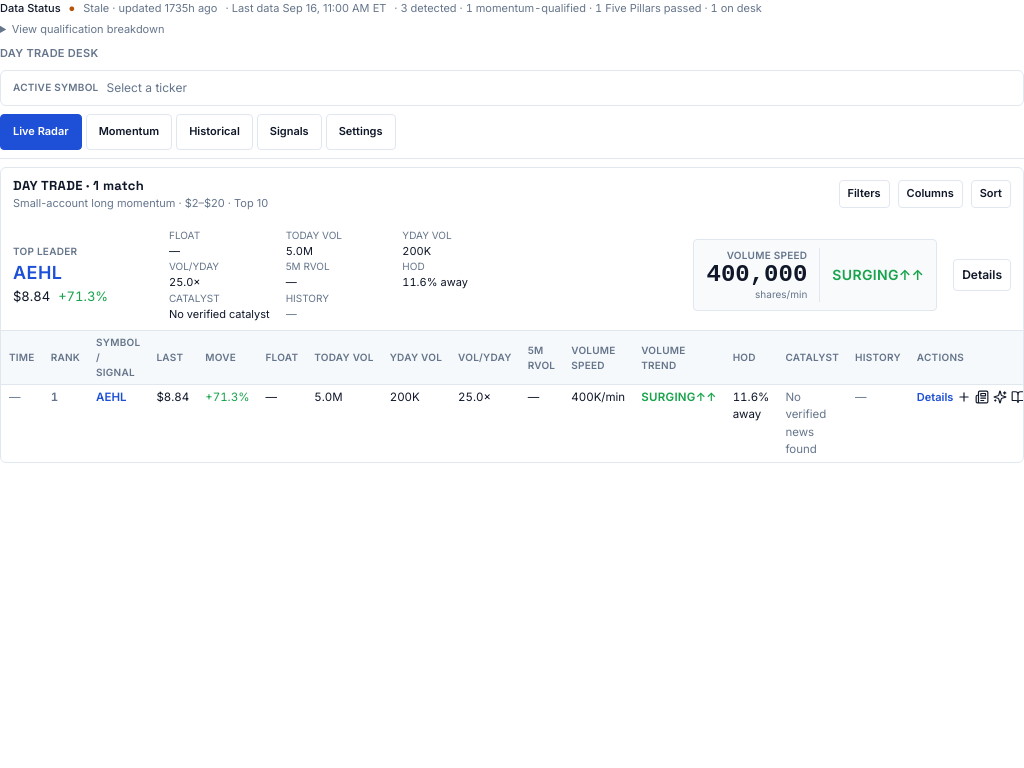
Test case: Radar workspace layout › sets the shared active symbol from any panel and opens details from the rail
The width and height of the screenshot is (1024, 768).
Later steps or results of the test are not shown.
Step 1. Click the row that starts with "AEHL" → [512, 423], box left=1, top=384, right=1023, bottom=462
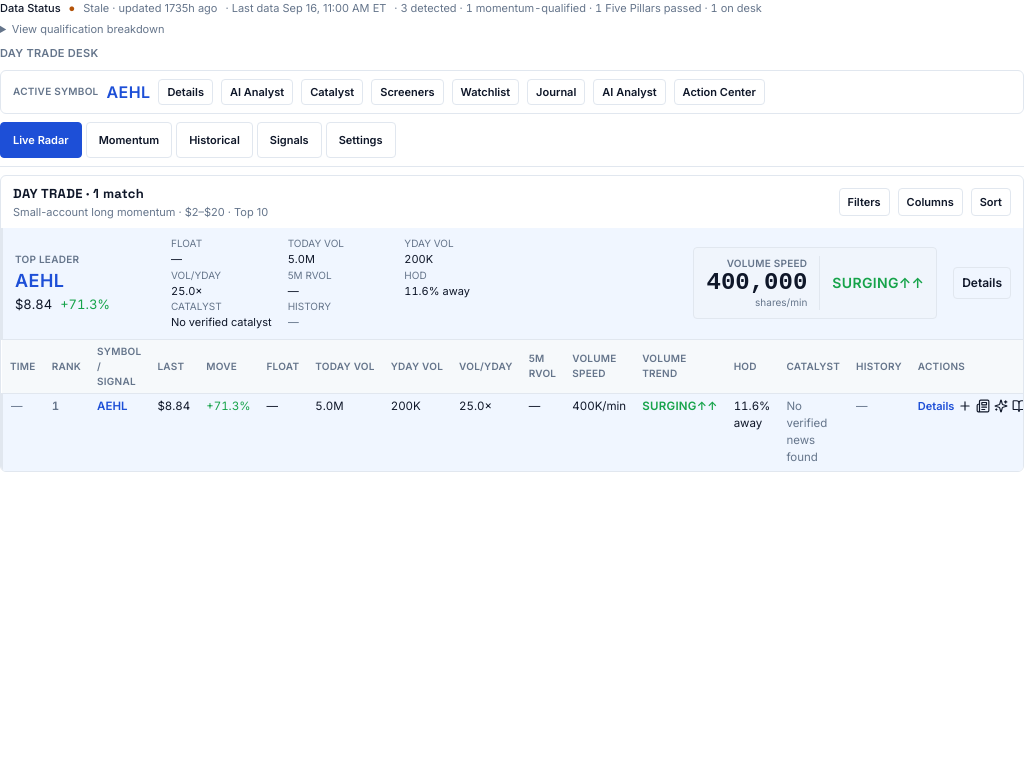
Result: the text "AEHL" is shown at left=106, top=80, right=150, bottom=104
Step 2. Click the button "Details" in the row of "Active Symbol" → [186, 92], box left=158, top=78, right=213, bottom=105
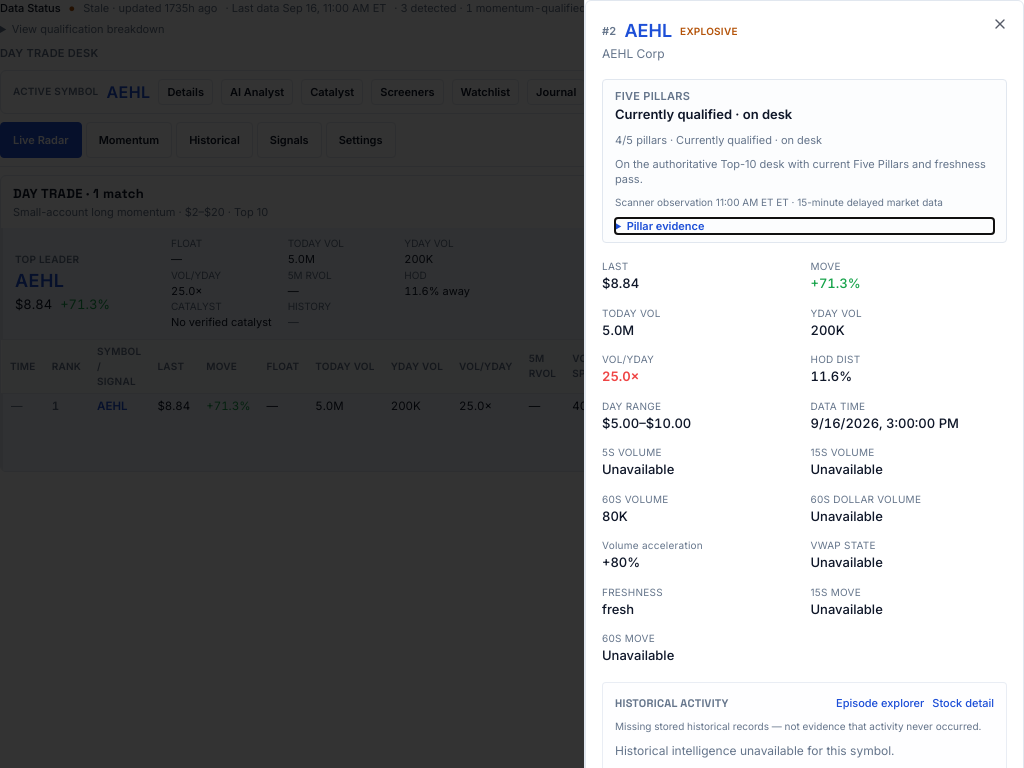
Result: the link "AEHL" is shown at left=624, top=17, right=672, bottom=45
Step 3. Click the button named "Close" → [1000, 24], box left=992, top=16, right=1008, bottom=32
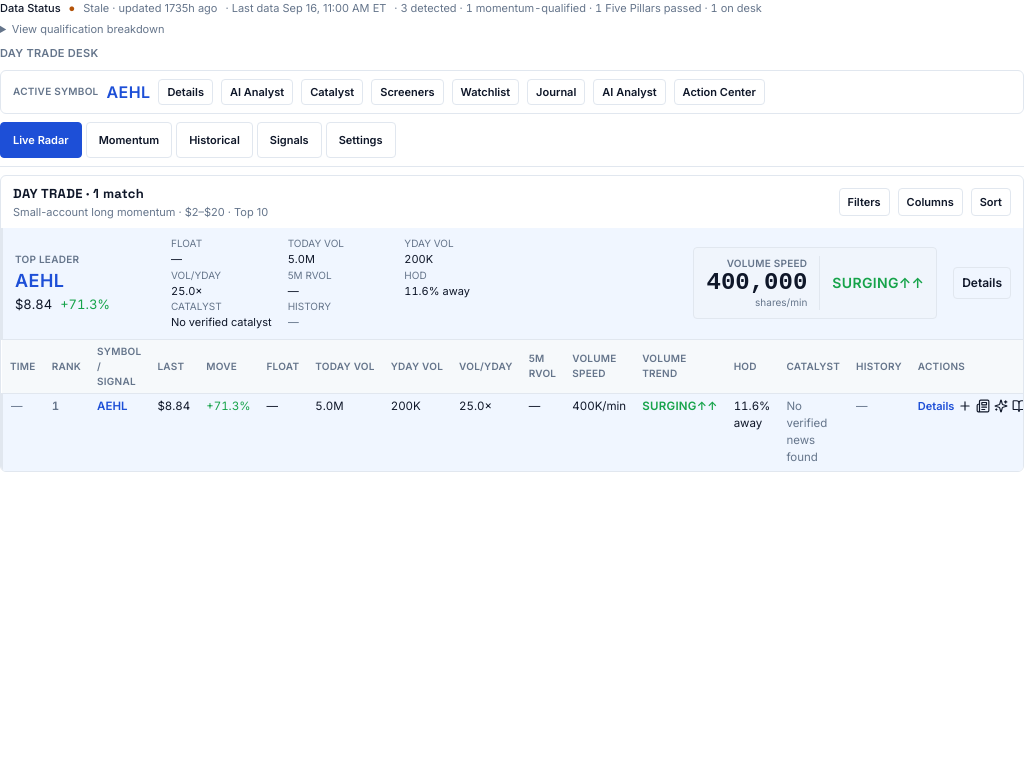
Step 4. Click the tab "Momentum" → [129, 140], box left=86, top=122, right=172, bottom=158
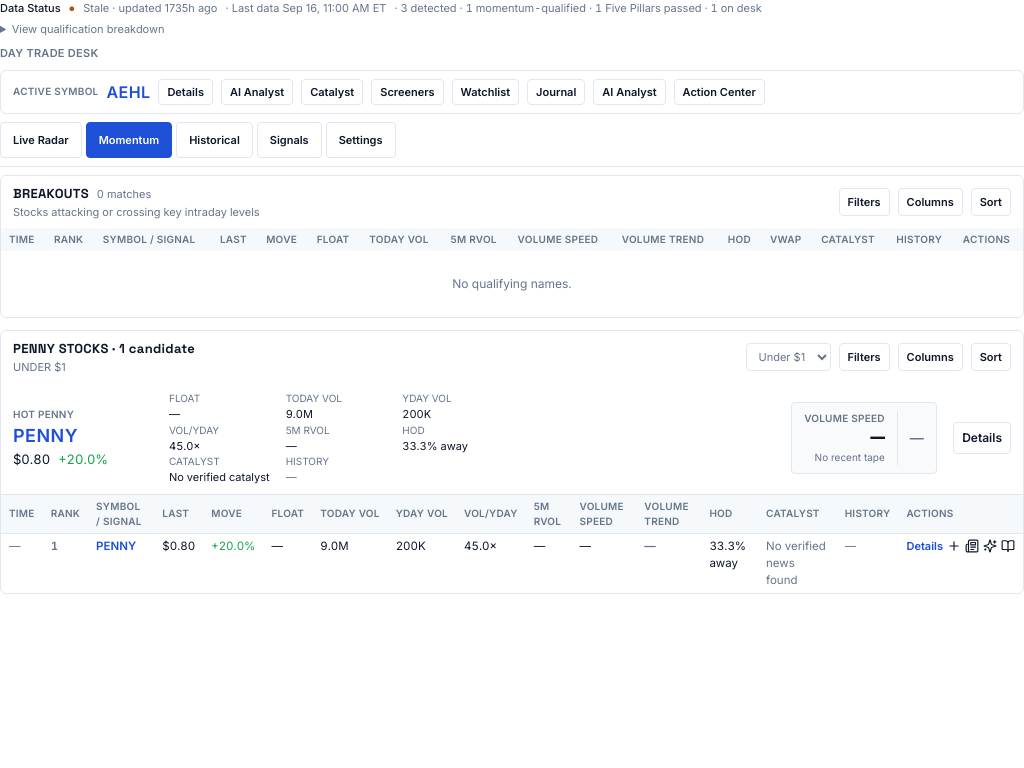
Step 5. Click the button "PENNY" → [45, 436], box left=13, top=422, right=78, bottom=450
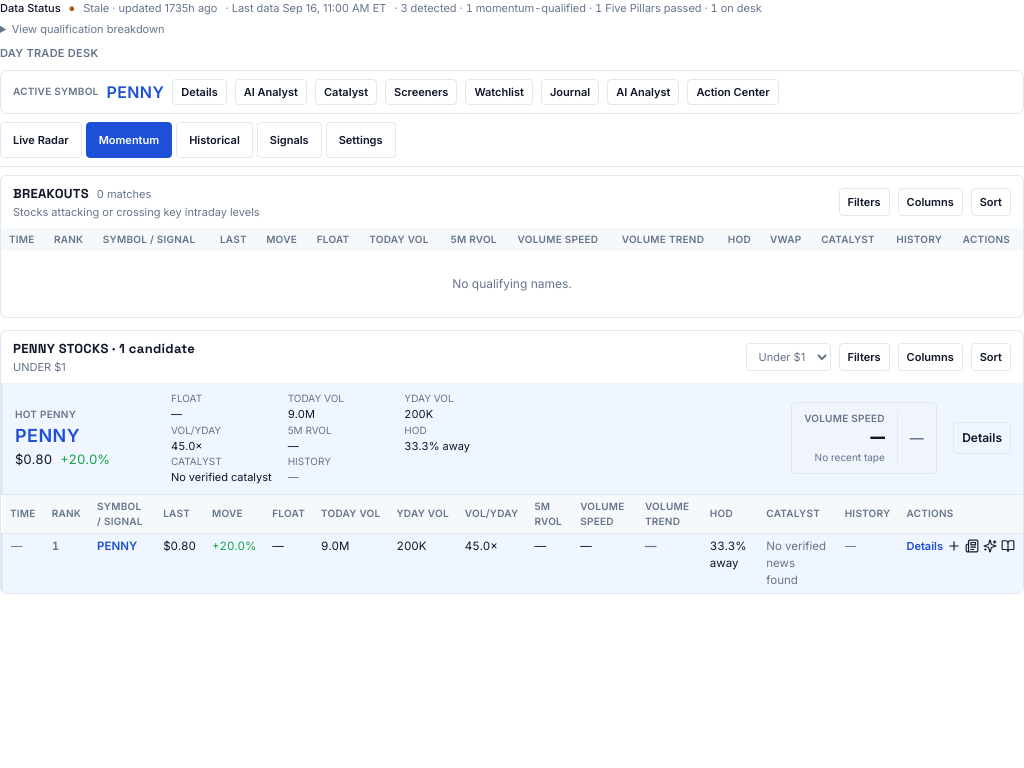
Result: the text "PENNY" is shown at left=106, top=80, right=164, bottom=104
